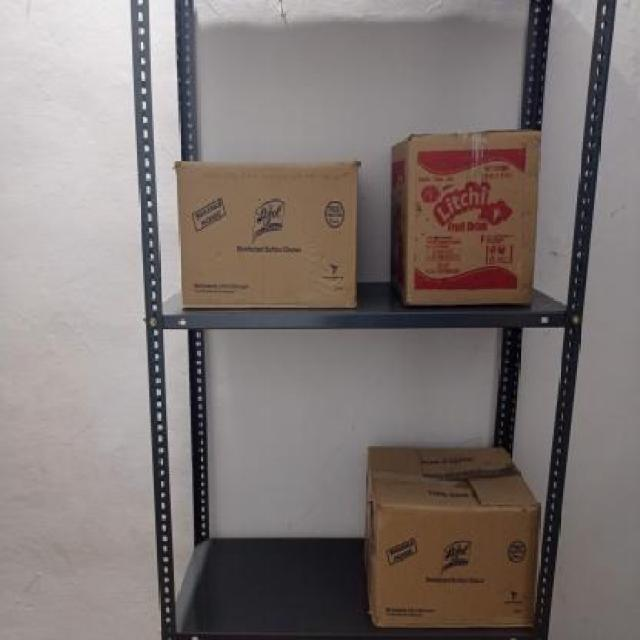box: (173, 158, 359, 310), (407, 128, 535, 306), (374, 504, 536, 627)
